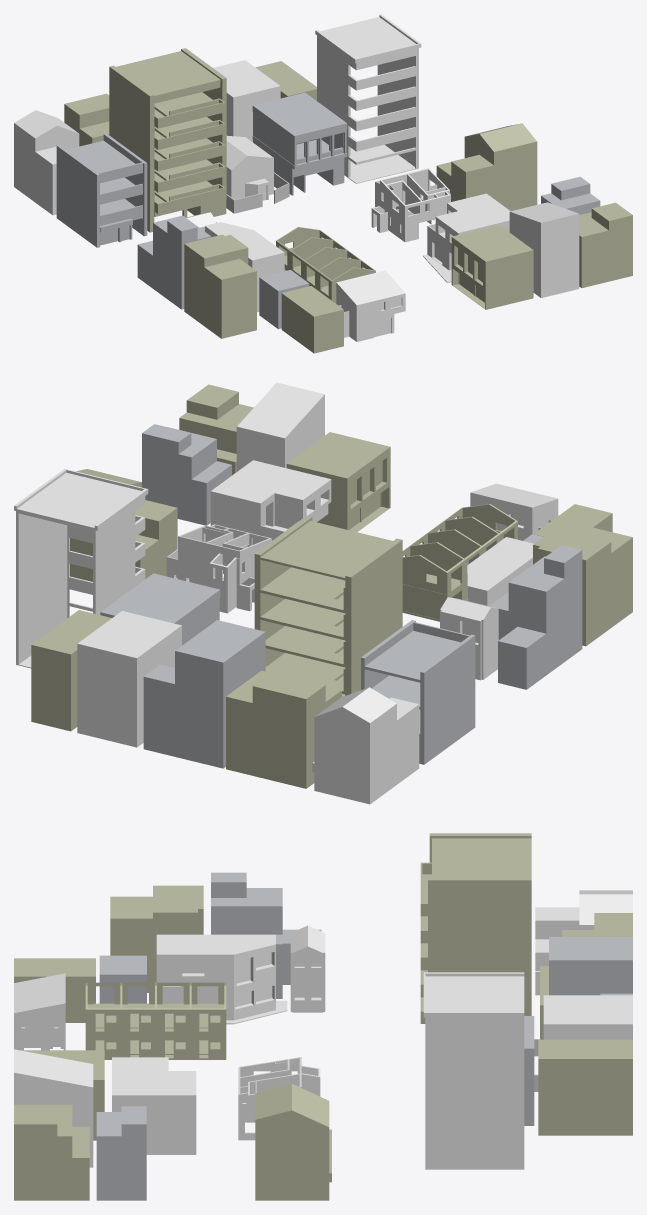
The model's file is streetScene_house.fbx.
The picture shows the model from 3 angles, top to bottom: view 1: azimuth 30°, elevation 25°; view 2: azimuth 150°, elevation 25°; view 3: azimuth 270°, elevation 25°; orthographic projection. The views are drawn at different scales.
Parts seen in each view (by area): view 1: オブジェクト_13, オブジェクト_69, オブジェクト_168, オブジェクト_166, オブジェクト_491, オブジェクト_807, オブジェクト_344, オブジェクト_348, オブジェクト_351, オブジェクト_848, オブジェクト_802, オブジェクト_784 (+12 smaller); view 2: オブジェクト_13, オブジェクト_69, オブジェクト_804, オブジェクト_168, オブジェクト_351, オブジェクト_352, オブジェクト_492, オブジェクト_350, オブジェクト_784, オブジェクト_812, オブジェクト_344, オブジェクト_801 (+11 smaller); view 3: オブジェクト_69, オブジェクト_13, オブジェクト_784, オブジェクト_806, オブジェクト_353, オブジェクト_807, オブジェクト_802, オブジェクト_812, オブジェクト_491, オブジェクト_804, オブジェクト_492, オブジェクト_801 (+11 smaller).
Part boxes in pixels (x1=…): オブジェクト_13: x1=109, y1=48, x2=226, y2=232; オブジェクト_69: x1=315, y1=14, x2=421, y2=183; オブジェクト_168: x1=56, y1=133, x2=147, y2=247; オブジェクト_166: x1=252, y1=92, x2=347, y2=195; オブジェクト_491: x1=184, y1=234, x2=256, y2=338; オブジェクト_807: x1=435, y1=123, x2=537, y2=210; オブジェクト_344: x1=451, y1=225, x2=533, y2=309; オブジェクト_348: x1=509, y1=202, x2=579, y2=297; オブジェクト_351: x1=14, y1=110, x2=79, y2=215; オブジェクト_848: x1=371, y1=168, x2=450, y2=242; オブジェクト_802: x1=579, y1=202, x2=632, y2=287; オブジェクト_784: x1=276, y1=227, x2=375, y2=303; オブジェクト_13: x1=254, y1=515, x2=402, y2=696; オブジェクト_69: x1=14, y1=469, x2=148, y2=668; オブジェクト_804: x1=143, y1=620, x2=265, y2=768; オブジェクト_168: x1=361, y1=620, x2=475, y2=764; オブジェクト_351: x1=312, y1=687, x2=419, y2=804; オブジェクト_352: x1=77, y1=611, x2=181, y2=747; オブジェクト_492: x1=489, y1=545, x2=582, y2=689; オブジェクト_350: x1=226, y1=670, x2=341, y2=788; オブジェクト_784: x1=402, y1=504, x2=517, y2=621; オブジェクト_812: x1=210, y1=460, x2=331, y2=544; オブジェクト_344: x1=286, y1=432, x2=390, y2=531; オブジェクト_801: x1=142, y1=424, x2=231, y2=525; オブジェクト_69: x1=423, y1=972, x2=524, y2=1169; オブジェクト_13: x1=420, y1=833, x2=531, y2=1023; オブジェクト_784: x1=85, y1=982, x2=226, y2=1059; オブジェクト_806: x1=538, y1=1039, x2=632, y2=1135; オブジェクト_353: x1=156, y1=934, x2=287, y2=1024; オブジェクト_807: x1=255, y1=1084, x2=331, y2=1200; オブジェクト_802: x1=14, y1=1104, x2=89, y2=1200; オブジェクト_812: x1=112, y1=1057, x2=196, y2=1154; オブジェクト_491: x1=110, y1=885, x2=203, y2=992; オブジェクト_804: x1=549, y1=937, x2=632, y2=995; オブジェクト_492: x1=211, y1=872, x2=321, y2=998; オブジェクト_801: x1=96, y1=1106, x2=146, y2=1200.
Bounding box in the file's own units: 5486 × 1915 × 6255.
